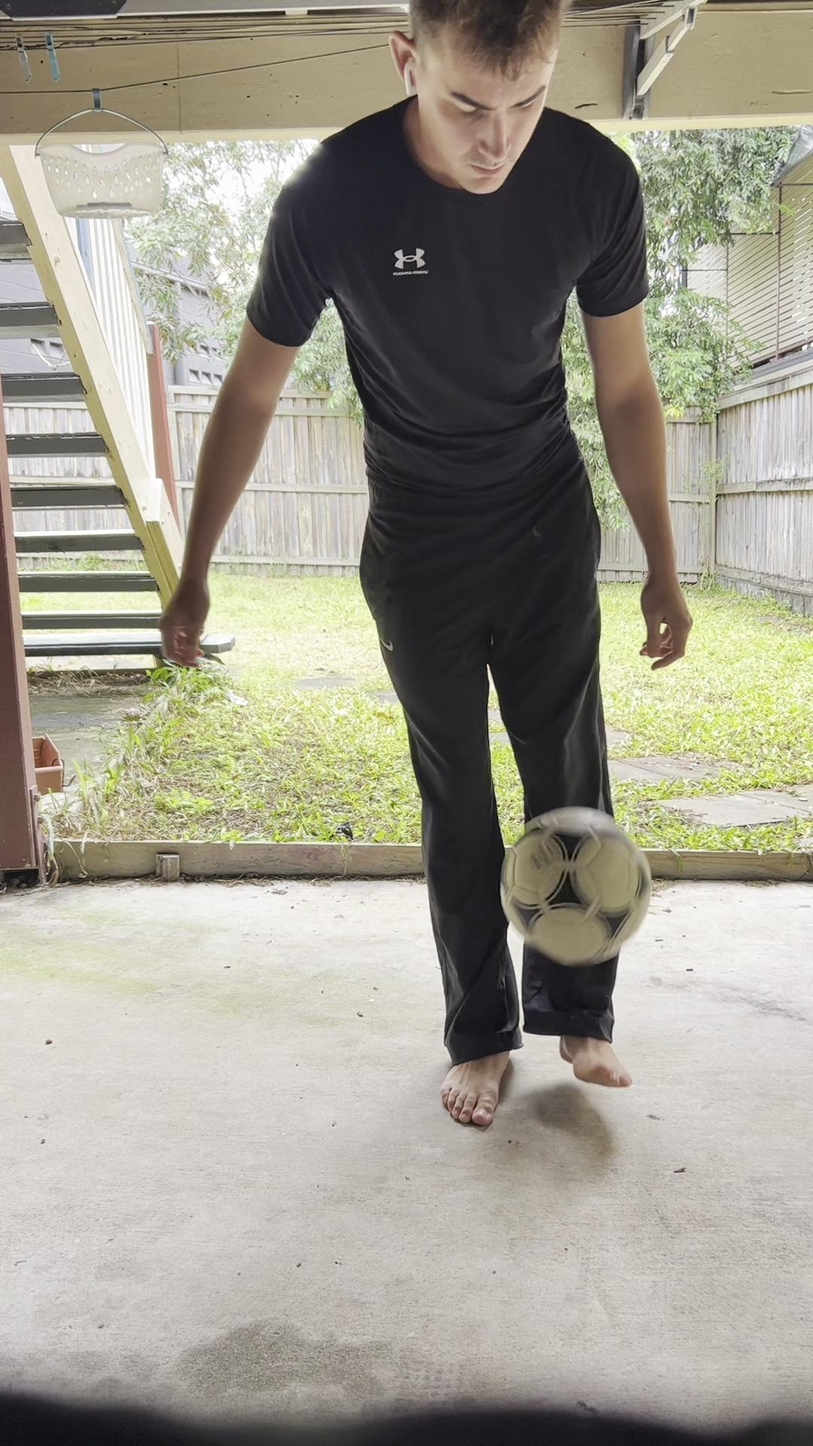ball: (496, 808, 654, 962)
foot: (439, 1042, 516, 1127), (559, 1024, 639, 1091)
person: (156, 0, 702, 1125)
